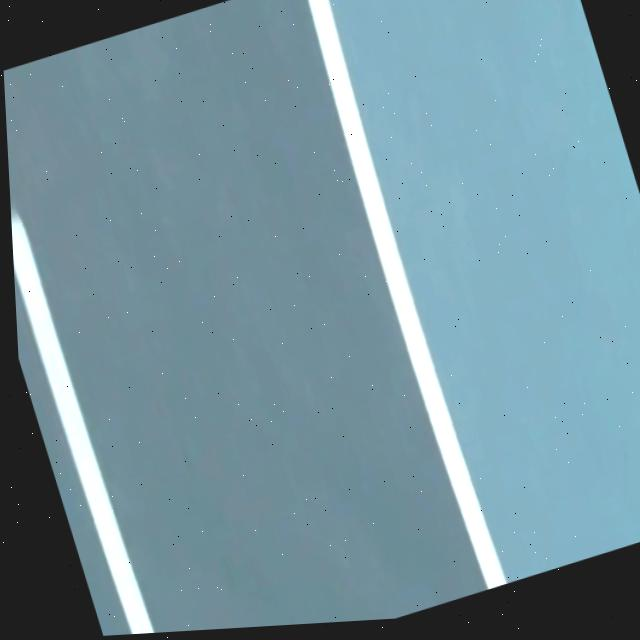center: (11, 208, 156, 634)
left: (308, 0, 507, 589)
